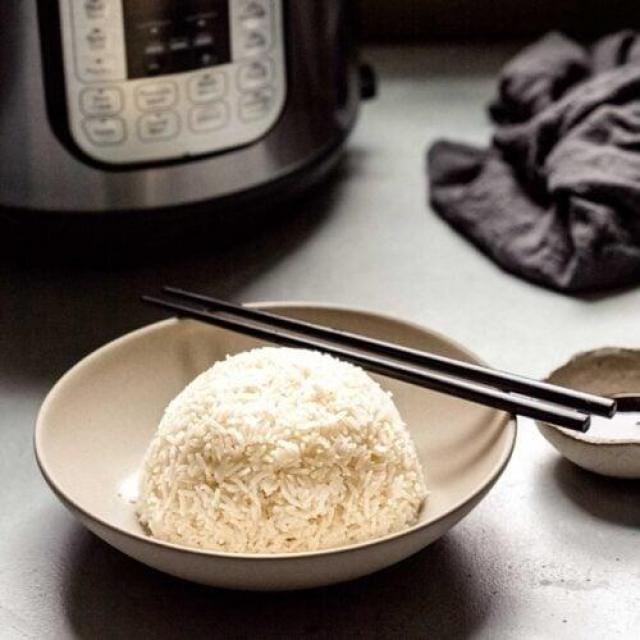rice: (134, 346, 428, 554)
